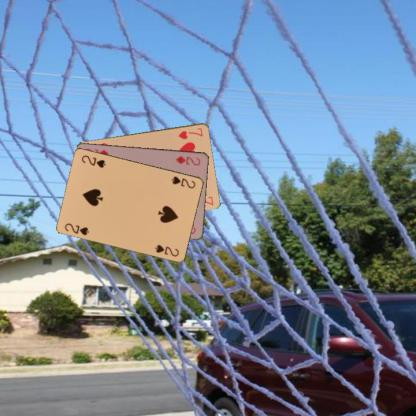2d: (173, 153, 202, 167)
2s: (63, 220, 90, 236), (170, 174, 196, 190)
7h: (176, 126, 204, 140)
